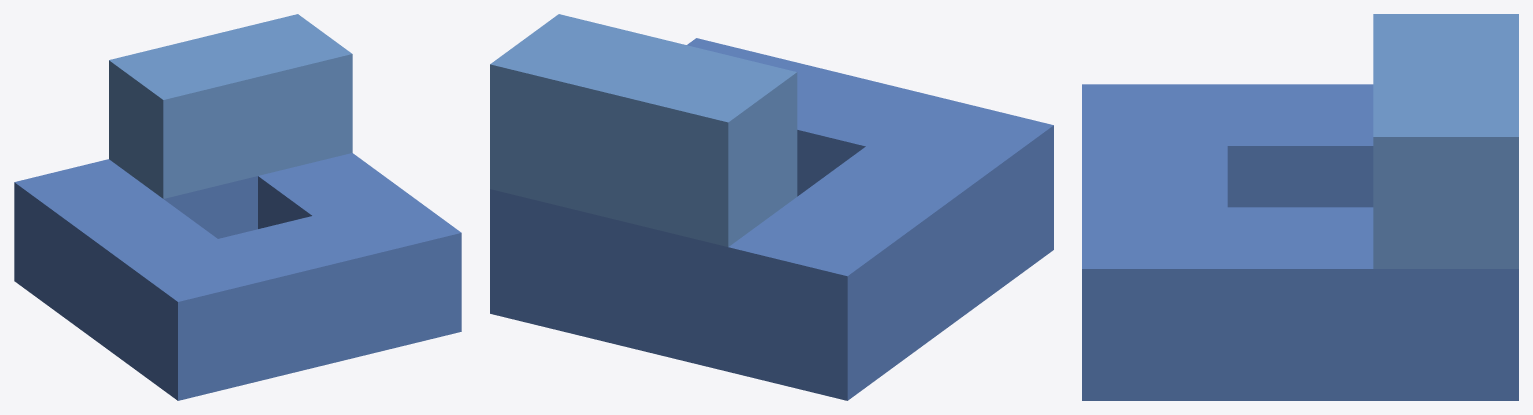
File: anillo_zafiro_01.glb
3 views of the same model, side by side, from view 1: azimuth 30°, elevation 25°; view 2: azimuth 150°, elevation 25°; view 3: azimuth 270°, elevation 25° (orthographic). The views are drawn at different scales.
Parts seen in each view (by area): view 1: anillo_zafiro; view 2: anillo_zafiro; view 3: anillo_zafiro.
Boxes of the visible parts, x1,y1,x2,y2 form: anillo_zafiro: [14, 14, 461, 400]; anillo_zafiro: [490, 14, 1053, 400]; anillo_zafiro: [1082, 14, 1518, 400].
Bounding box in the file's own units: 0.25 × 0.1667 × 0.25.
